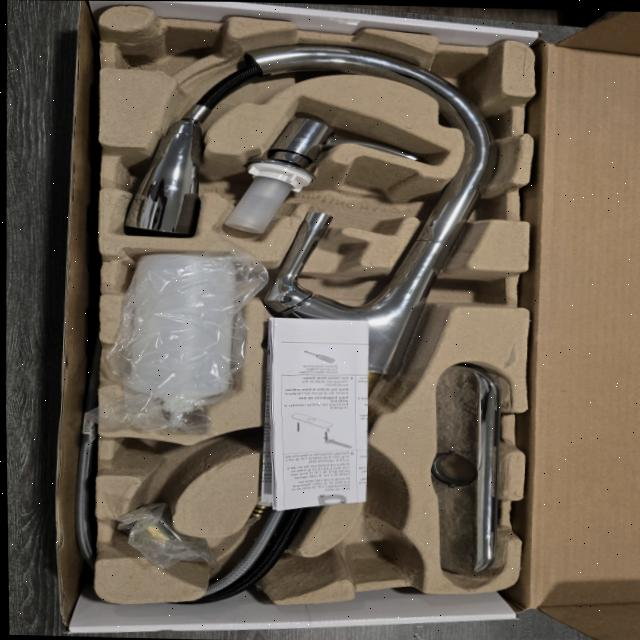1o: (124, 45, 498, 603)
2: (224, 117, 417, 234)
3: (125, 249, 232, 427)
4: (427, 364, 500, 572)
5m: (340, 517, 409, 571)
6: (116, 501, 218, 568)
7m: (118, 430, 247, 494)
8: (257, 316, 367, 510)
